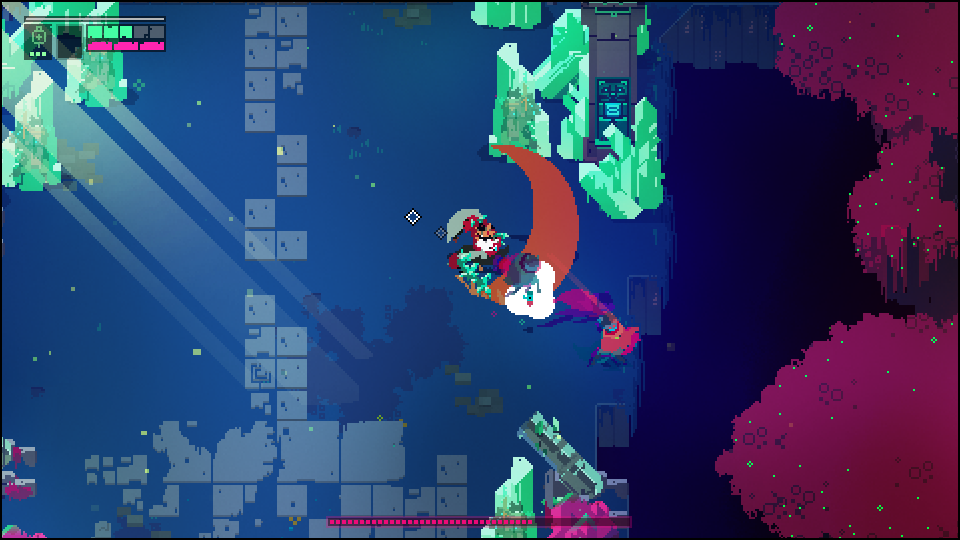hanged_man: (440, 202, 557, 319)
player: (594, 315, 637, 371)
